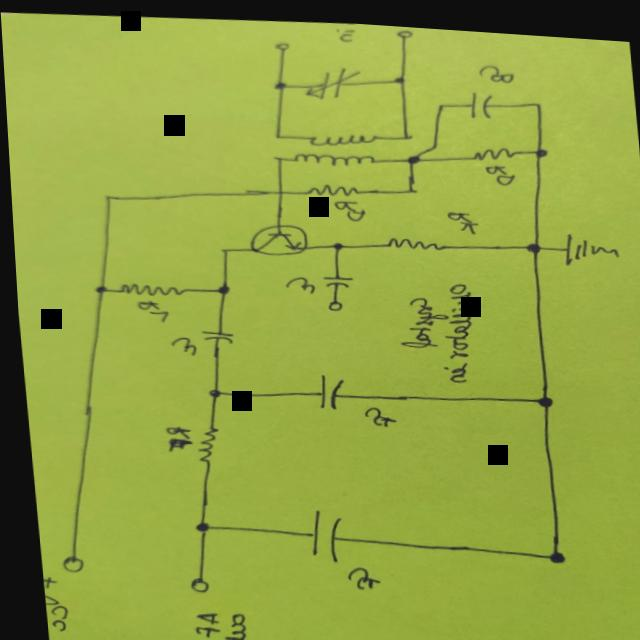capacitor: (299, 503, 339, 555), (302, 60, 359, 95), (308, 367, 339, 404), (463, 83, 493, 111), (195, 323, 229, 341), (318, 267, 348, 283)
ground: (558, 223, 617, 258)
junction: (535, 540, 564, 557), (526, 384, 548, 402), (208, 278, 230, 295), (182, 515, 206, 530), (519, 231, 540, 248), (400, 144, 422, 160), (268, 73, 287, 87), (527, 138, 546, 151), (201, 383, 220, 396), (88, 279, 104, 294), (388, 66, 406, 79), (327, 236, 342, 245), (99, 190, 113, 199), (433, 95, 446, 103), (397, 127, 410, 134), (530, 92, 540, 100), (427, 136, 439, 142), (273, 184, 283, 191), (216, 243, 226, 250), (271, 128, 281, 134), (403, 181, 413, 187), (272, 151, 283, 156)
resistor: (109, 277, 182, 296), (187, 420, 214, 463), (299, 174, 360, 193), (377, 229, 437, 246), (466, 137, 512, 155)
terminal: (50, 551, 79, 572), (178, 569, 207, 590), (391, 21, 414, 37), (318, 291, 341, 307), (270, 36, 290, 51)
text: (389, 269, 477, 380), (183, 604, 241, 640), (336, 559, 375, 586), (440, 202, 478, 229), (37, 590, 61, 632), (156, 420, 187, 450), (479, 155, 515, 180), (130, 296, 166, 321), (329, 193, 366, 217), (356, 399, 393, 423), (474, 55, 514, 76), (163, 330, 194, 355), (278, 270, 312, 290), (332, 20, 357, 39)
transformer: (282, 122, 379, 162)
transistor: (241, 214, 308, 253)
